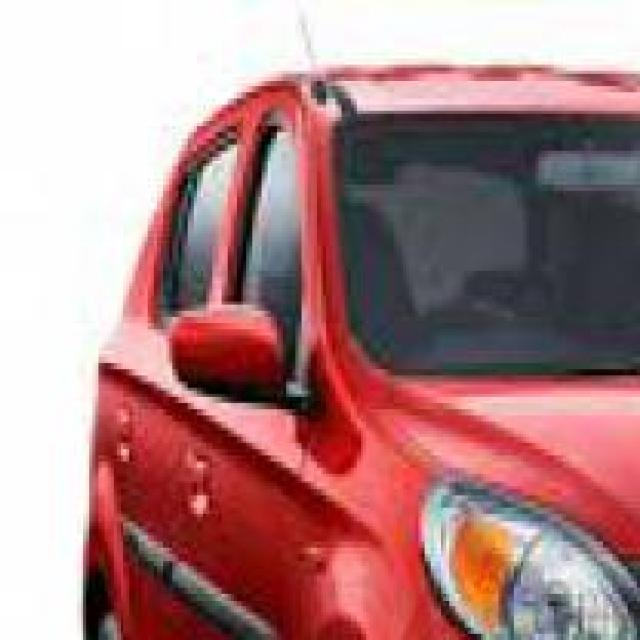car: (31, 52, 640, 640)
